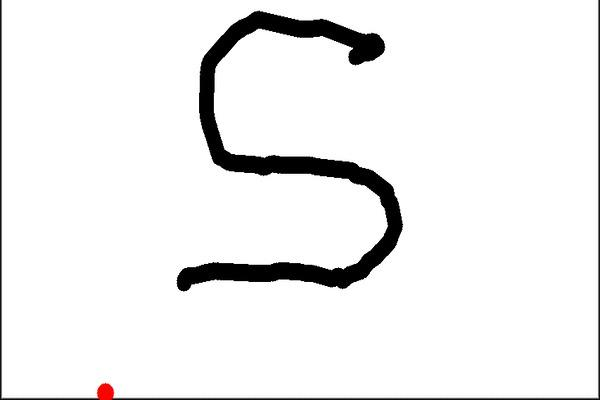S: (171, 4, 407, 295)
